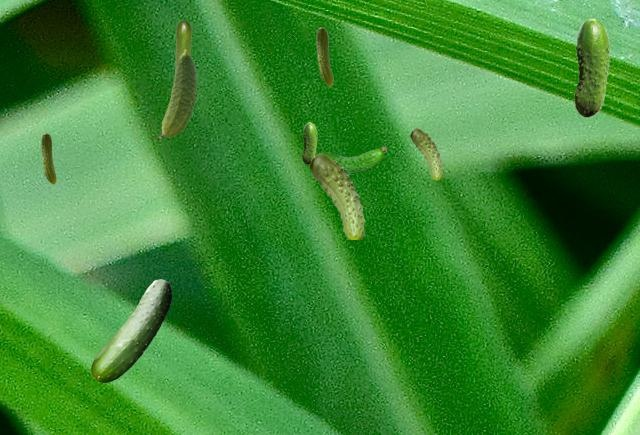cucumber: (91, 279, 170, 381), (309, 153, 364, 238), (156, 49, 196, 138), (574, 18, 609, 116), (320, 143, 385, 173), (410, 128, 442, 178), (316, 27, 332, 85), (175, 20, 190, 67), (41, 133, 55, 183), (302, 122, 316, 163)
